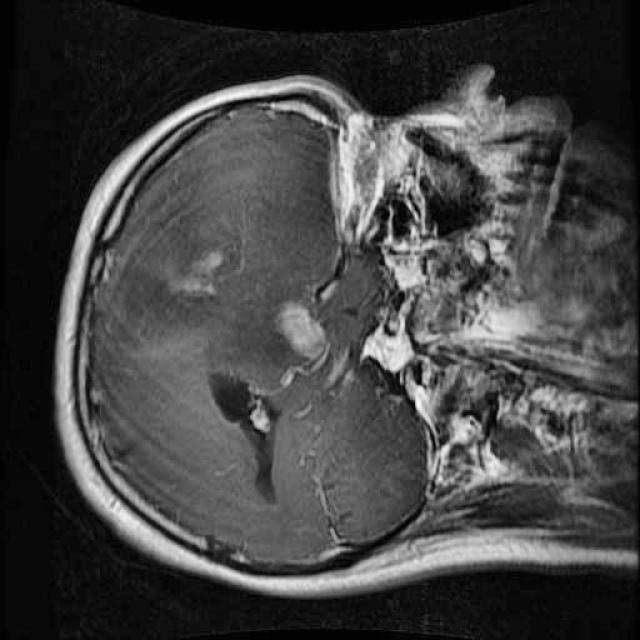Non-Tumor: (268, 290, 348, 376)
